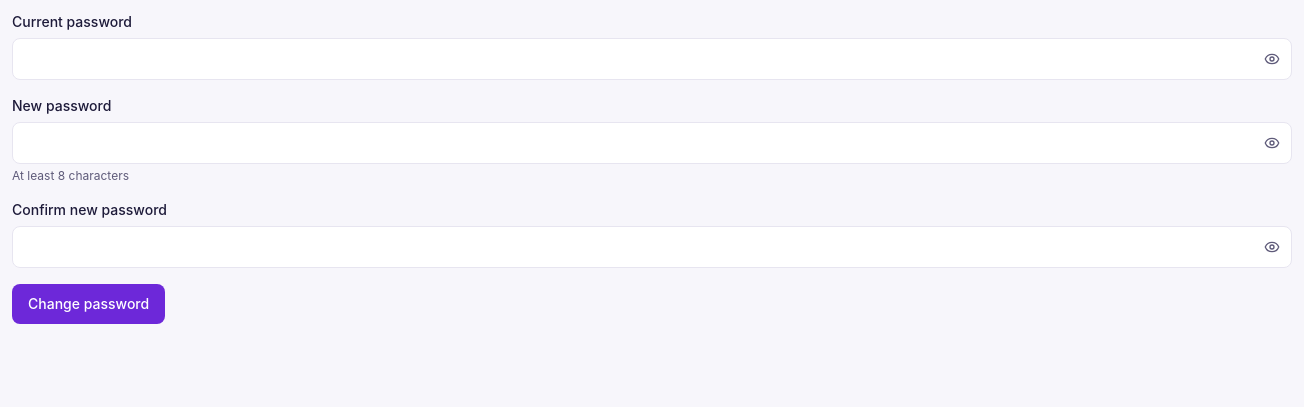
Scenario: ChangePasswordForm › rejects a short new password without calling Supabase
Type "oldpass12" into the password field labelled "Current password". click: (652, 59)
box: [12, 38, 1292, 80]
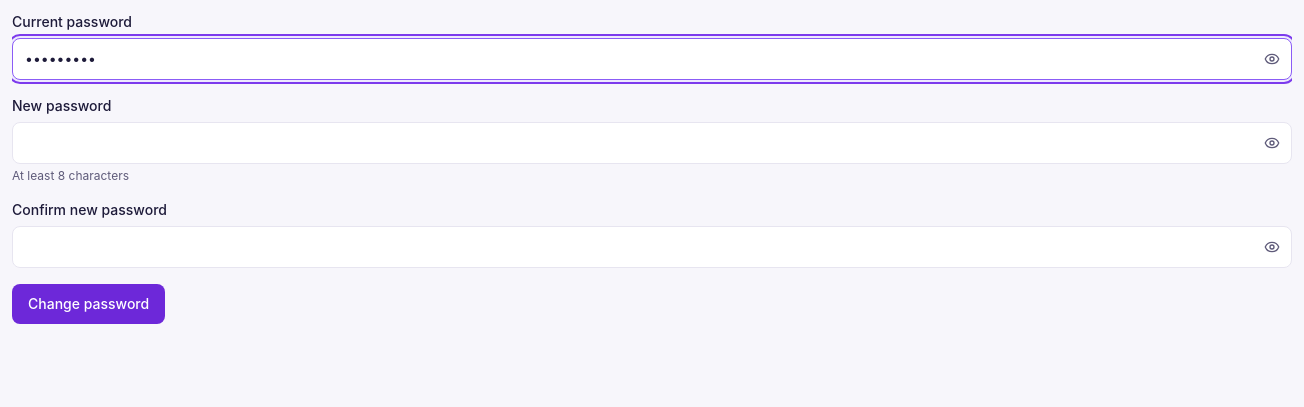
Type "short" into the password field labelled "New password At least 8 characters". click: (652, 143)
box: [12, 122, 1292, 164]
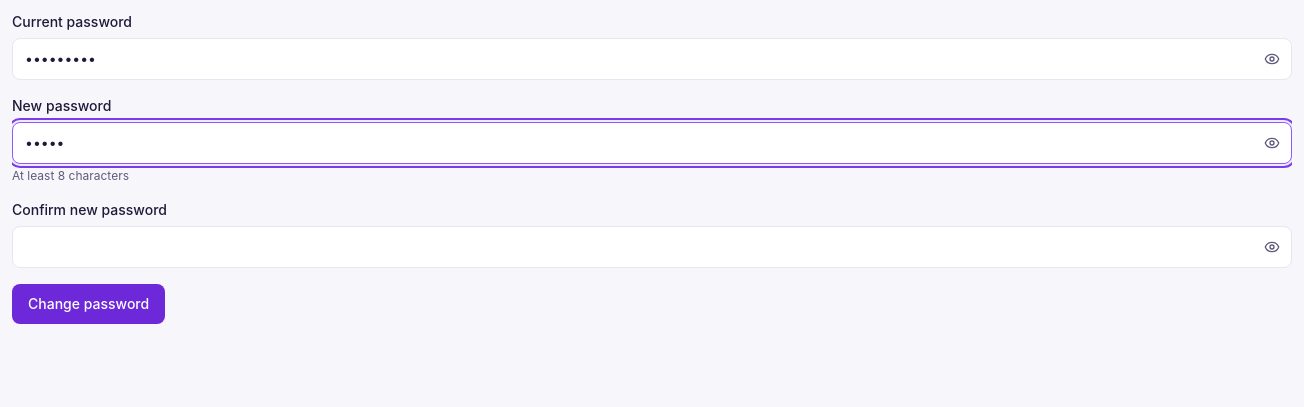
Type "short" into the password field labelled "Confirm new password". click: (652, 247)
box: [12, 226, 1292, 268]
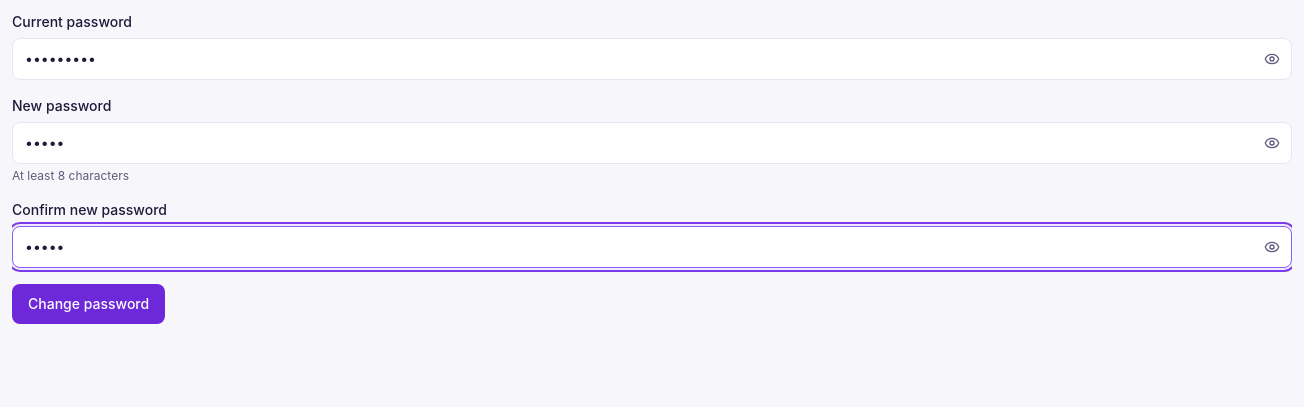
Click the button "Change password". click: (89, 304)
box: [12, 284, 165, 324]
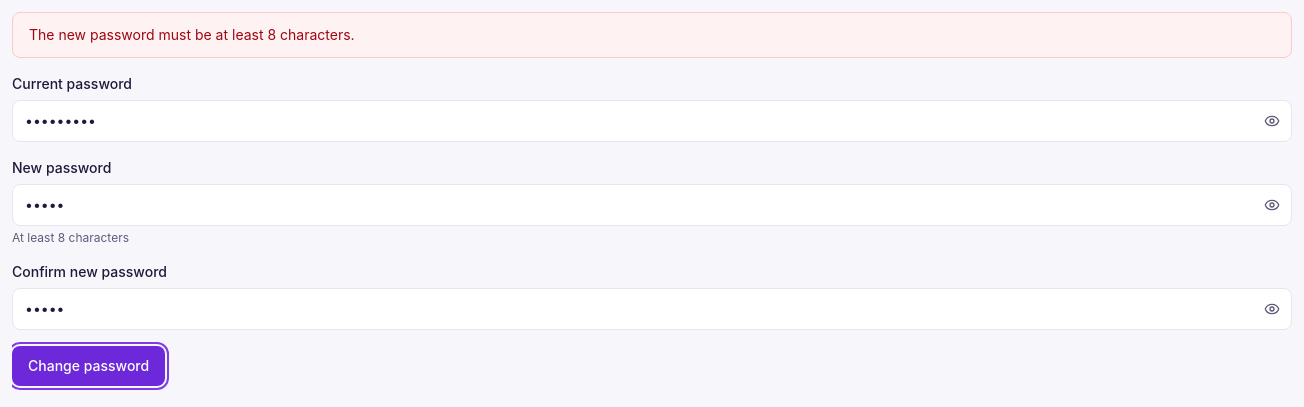
Expected: the message shows "at least 8 characters", [29, 26, 355, 43]
